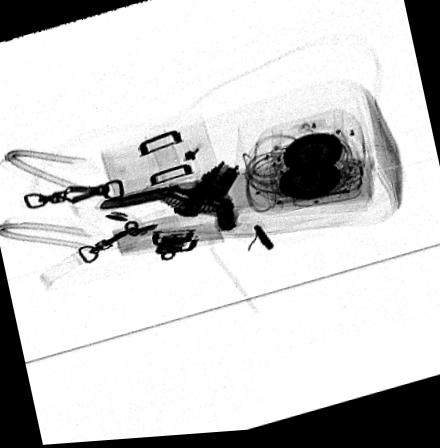Pliers: (98, 165, 241, 235)
